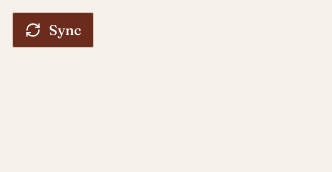
Test case: SyncButton › error state › shows error state for function error
This screenshot has width=332, height=172.
What coordinates should you click on to do the following:
click the button
I would click on:
 (53, 30)
Its box is [12,12,94,48].
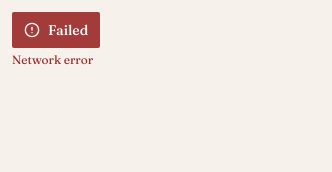
Expected: the button "Failed" is shown, [12,12,100,48]
